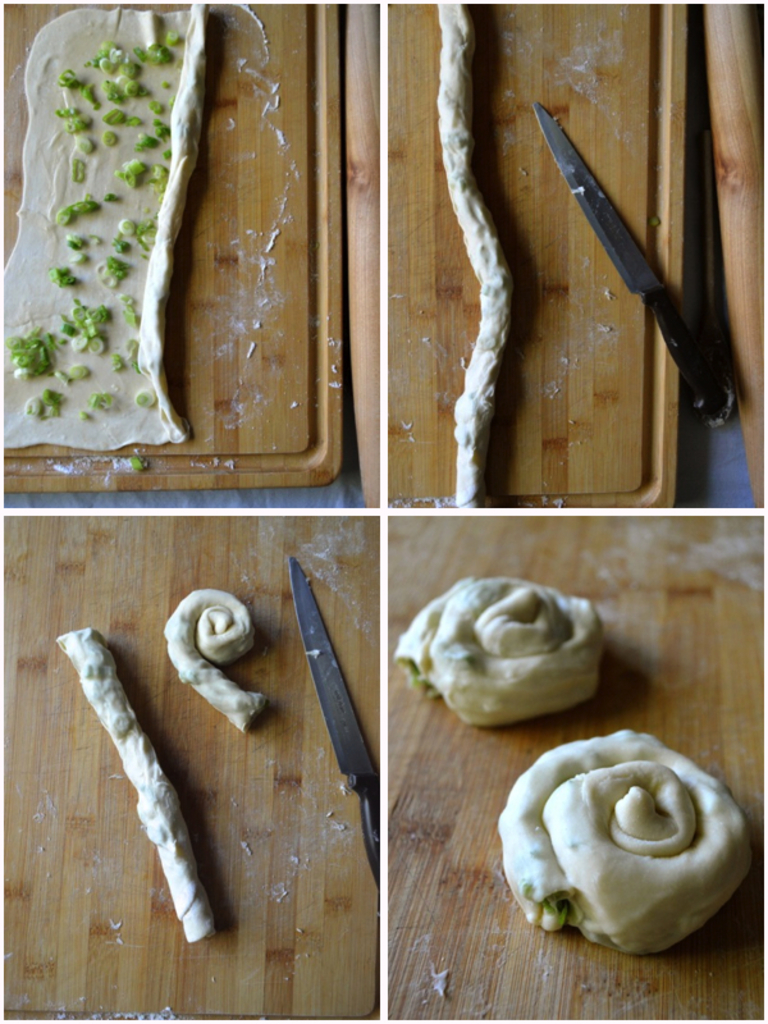kitchen knife: (520, 101, 737, 428)
